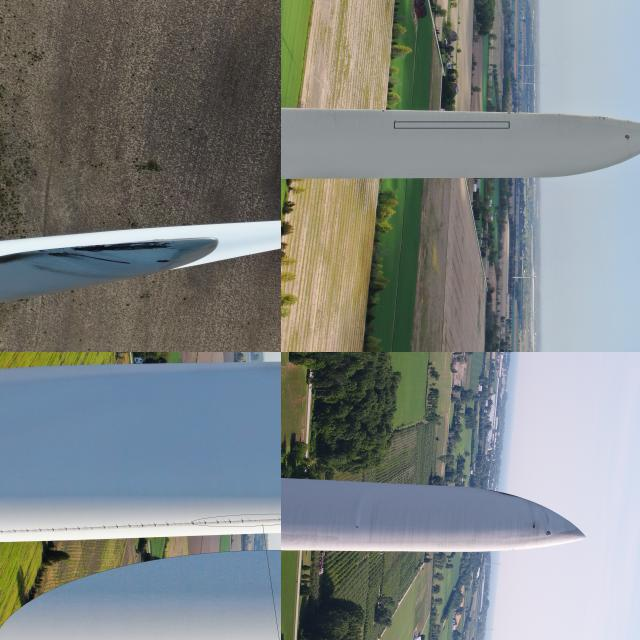damage: (66, 224, 168, 260), (0, 244, 41, 272), (246, 514, 280, 525), (590, 114, 608, 120), (528, 522, 538, 530), (622, 118, 636, 122)
